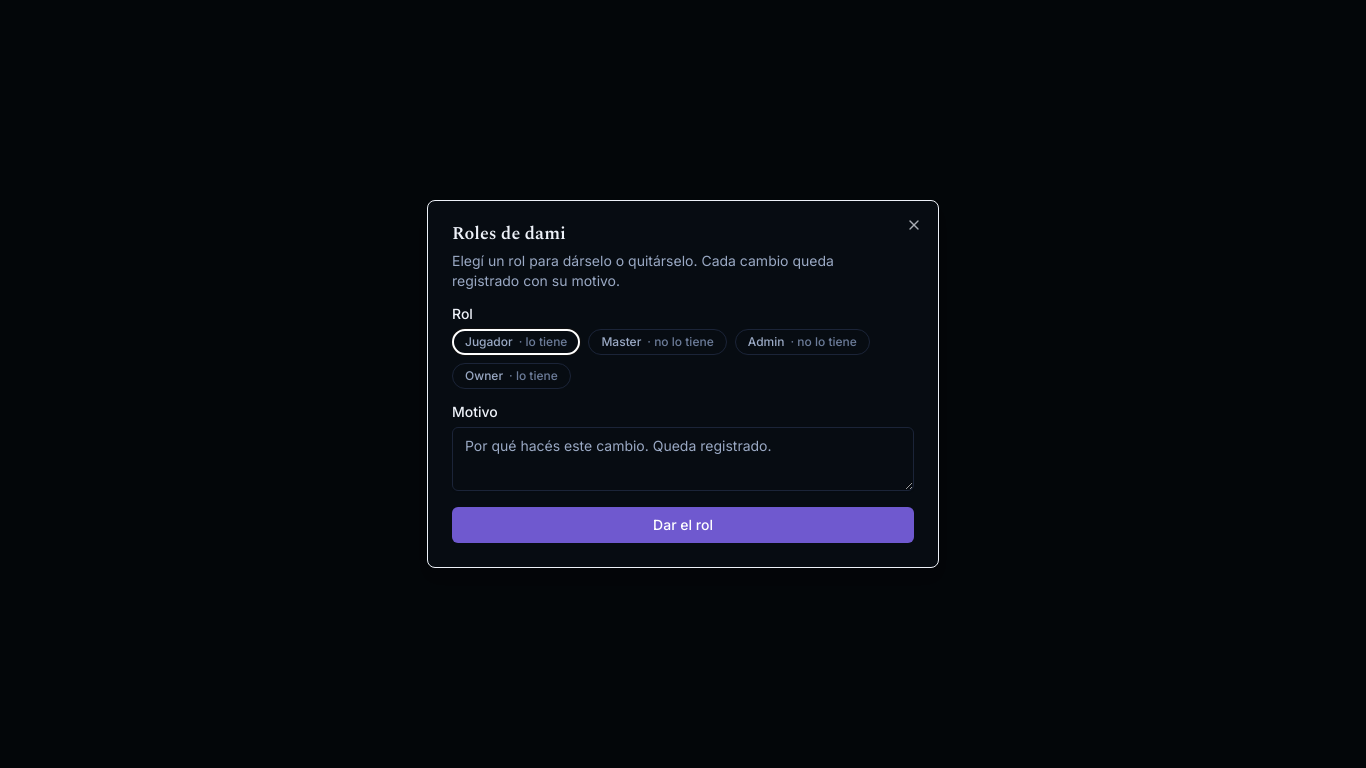
Test: RoleChangeDialog › explains CANNOT_REVOKE_OWN_OWNER from its code
Click the button "Owner· lo tiene" at (511, 376), box [452,363,571,389]
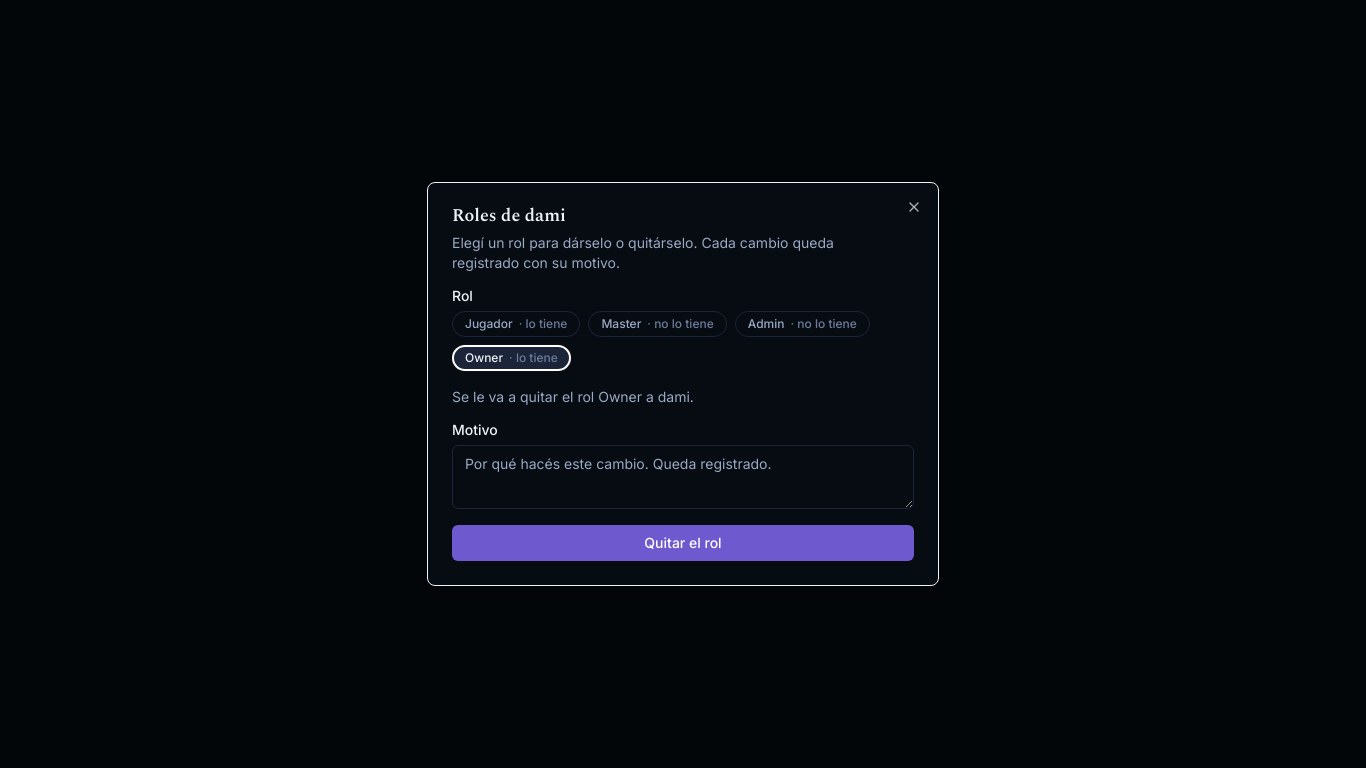
Type "Se va del proyecto" into the text box labelled "Motivo" at (683, 477), box [452,445,914,509]
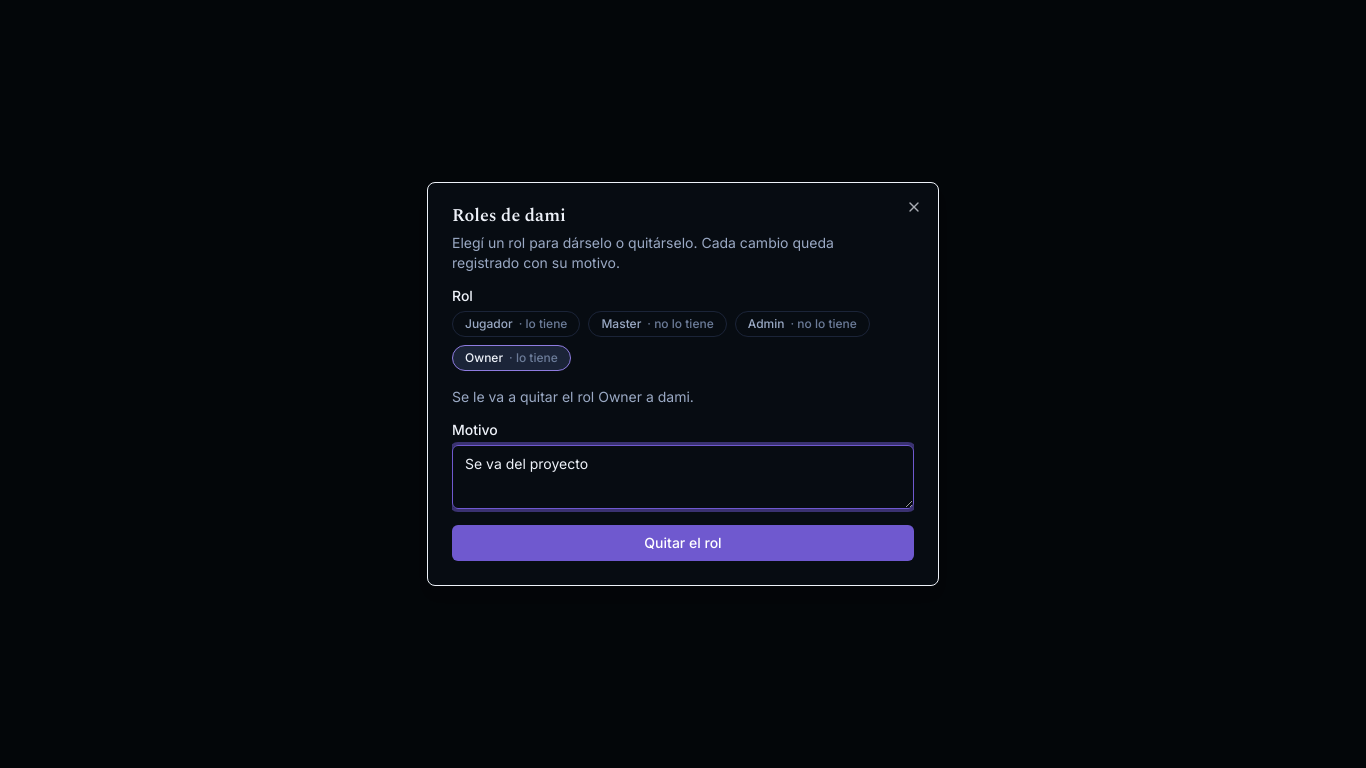
Click the button "Quitar el rol" at (683, 543), box [452,525,914,561]
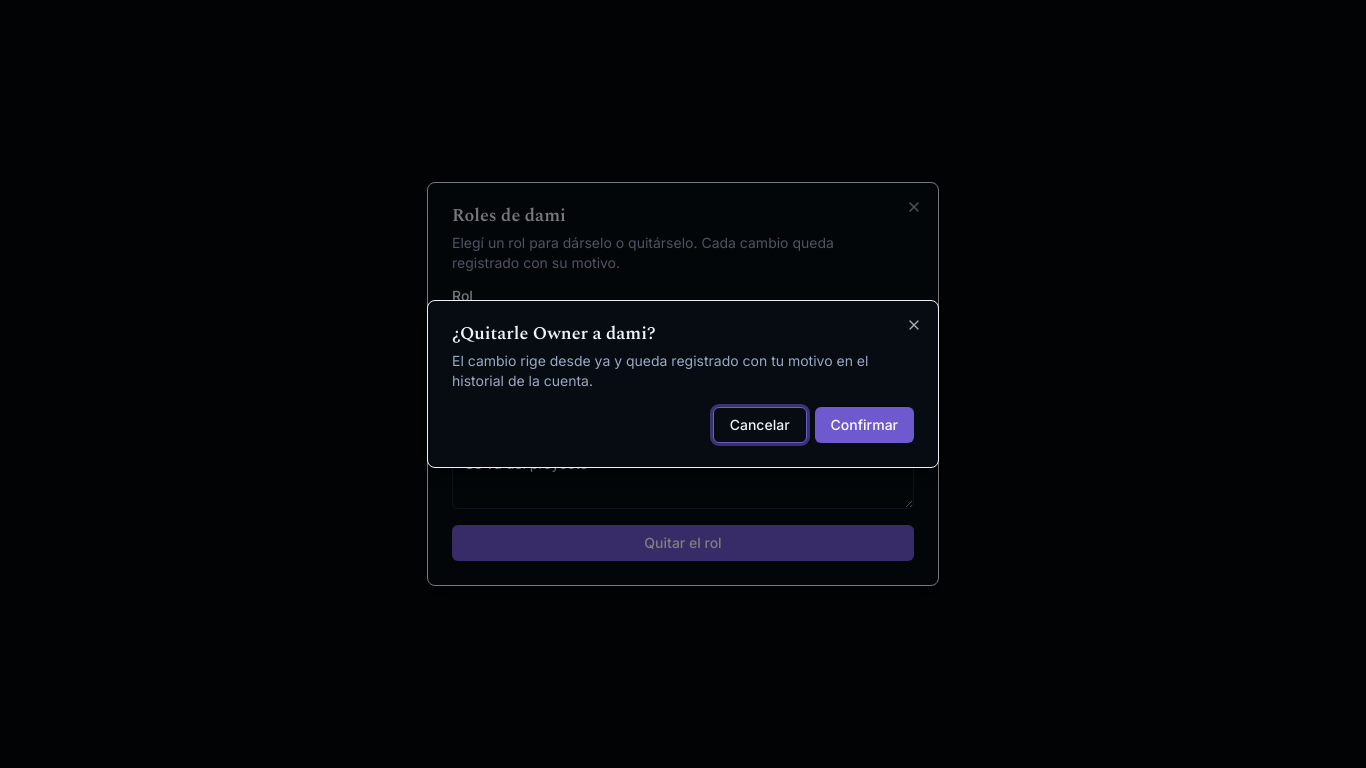
Click the button "Confirmar" at (864, 425), box [815,407,914,443]
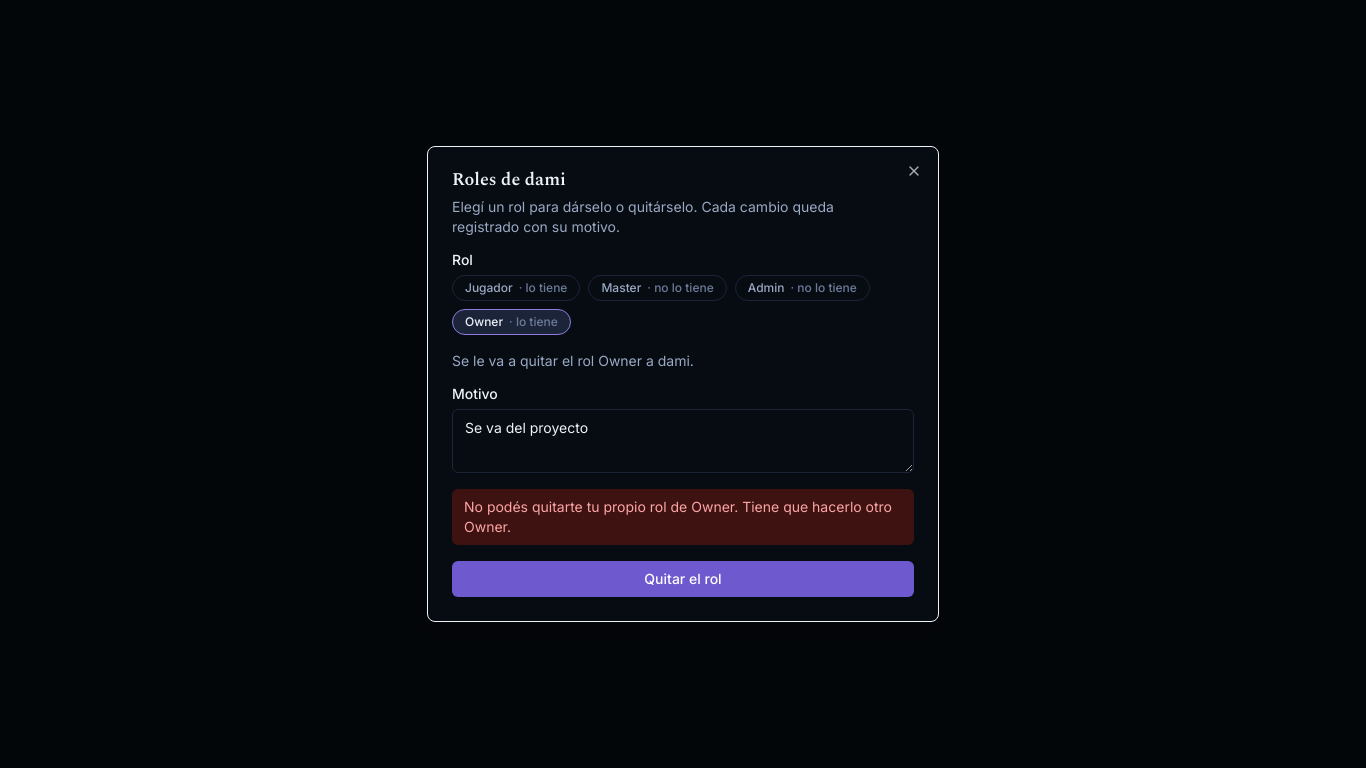
Expected: the message reads "No podés quitarte tu propio rol de Owner. Tiene que hacerlo otro Owner.", [464,498,892,535]
